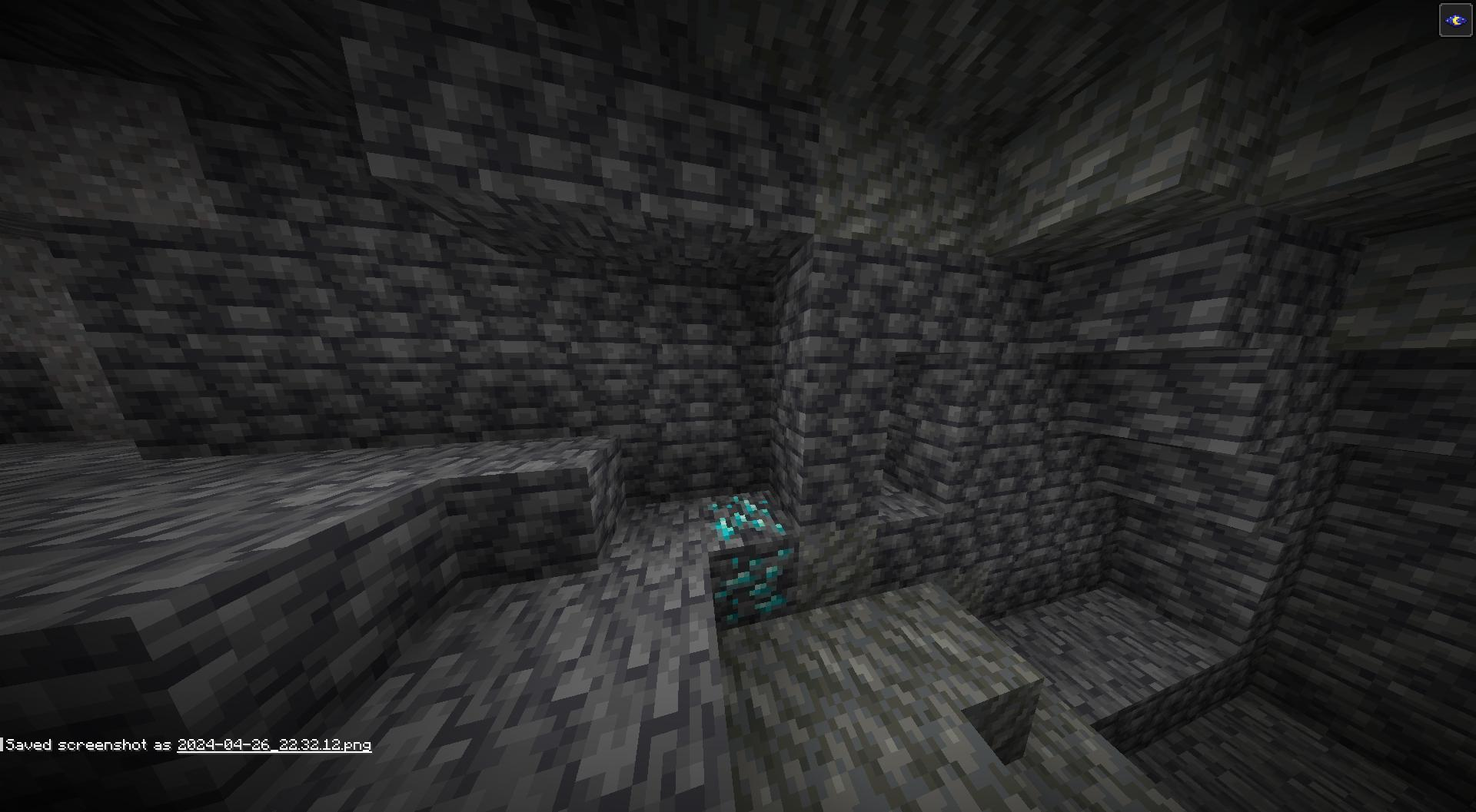diamond ore: (711, 545, 797, 620), (708, 494, 793, 545)
